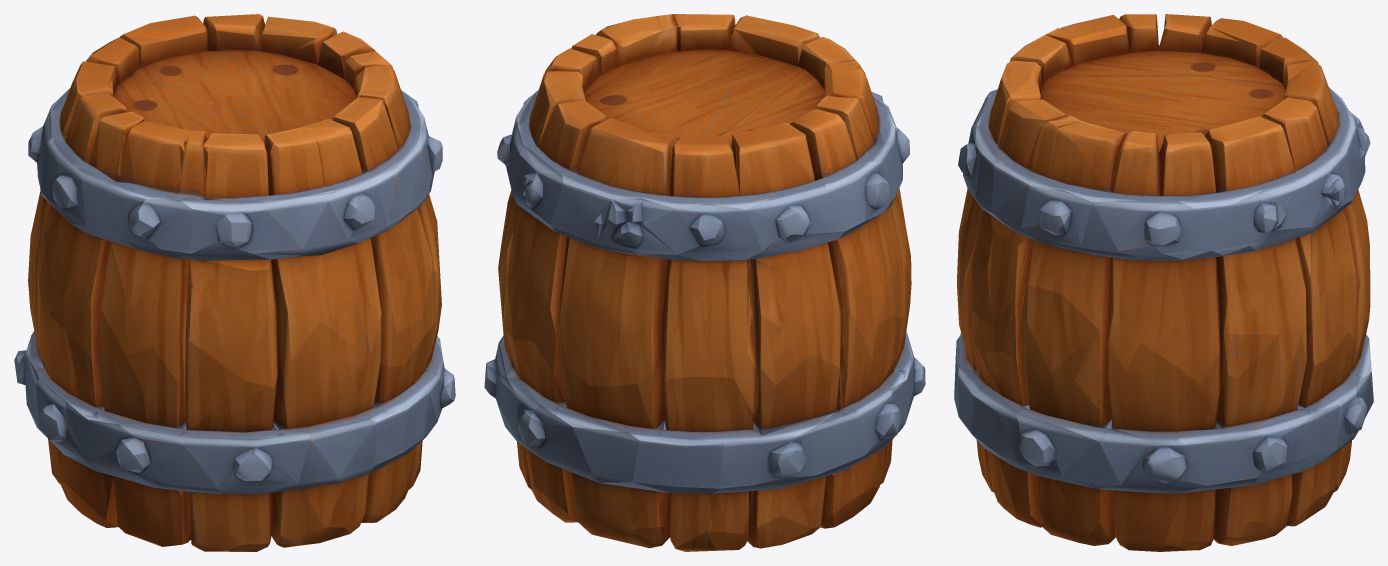
File: hav-toende.glb
3 renders of one model, left to right at view 1: azimuth 30°, elevation 25°; view 2: azimuth 150°, elevation 25°; view 3: azimuth 270°, elevation 25°, orthographic.
Bounding box in the file's own units: 1.9 × 1.89 × 1.79.
Materials: 1 (1 with a texture image).
